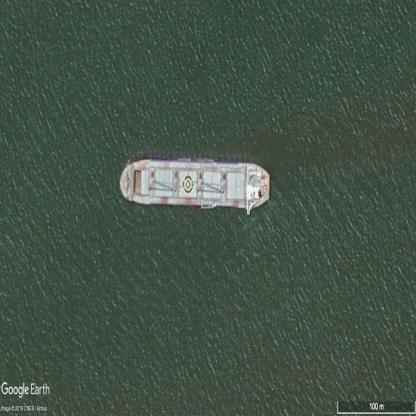ship: (120, 159, 271, 212)
